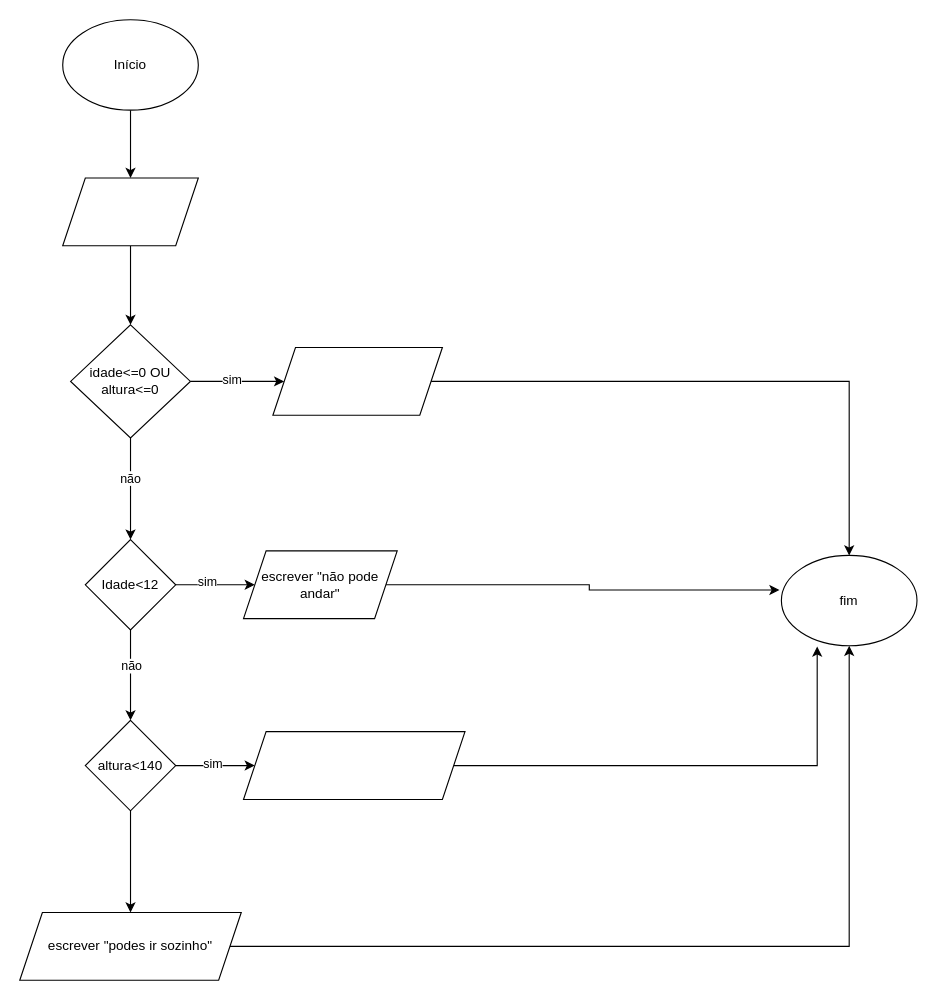
Some shapes in this 937 by 1000 pixel diagram are drawn without their labels. The centre of each missing label's shape, as x and y in pixels:
escrever "ANORMAL": point 357,380
escrever "só pode andar acompanhado por um adulto": point 353,765
Ler idade, altura: point 130,211
